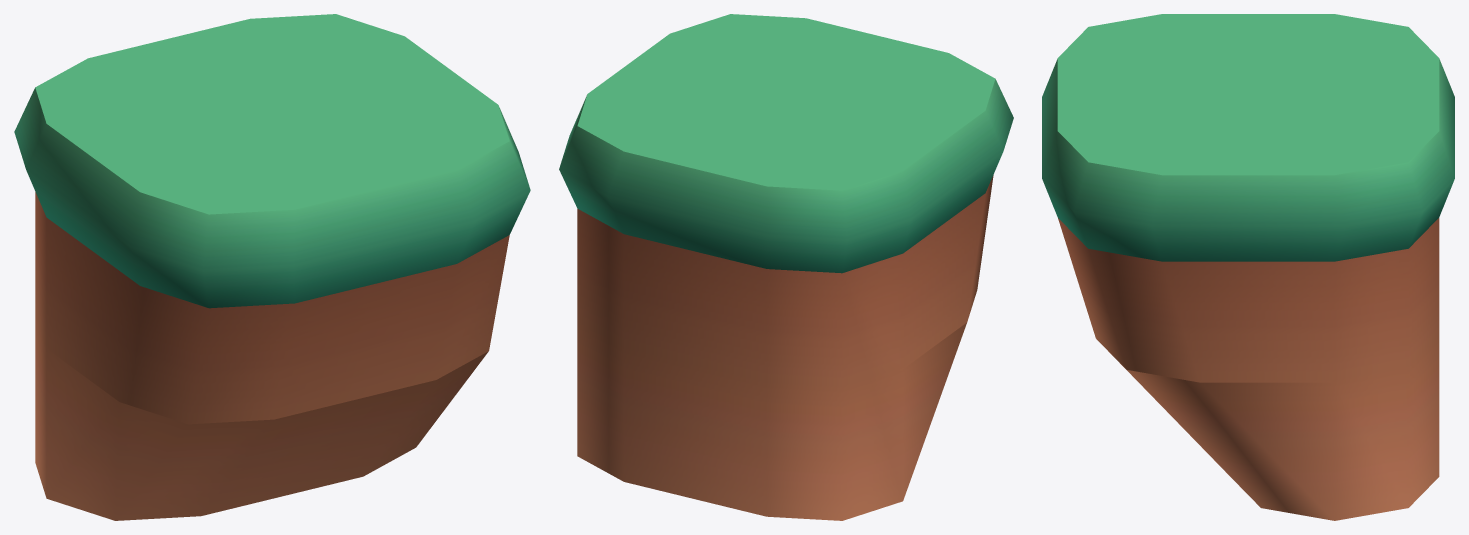
Rendered from kenney-platformer-block-grass-edge.glb.
3 renders of one model, left to right at view 1: azimuth 30°, elevation 25°; view 2: azimuth 150°, elevation 25°; view 3: azimuth 270°, elevation 25°, orthographic. The views are drawn at different scales.
Parts seen in each view (by area): view 1: block-grass-edge; view 2: block-grass-edge; view 3: block-grass-edge.
Boxes of the visible parts, x1=… form: block-grass-edge: x1=14, y1=14, x2=530, y2=520; block-grass-edge: x1=559, y1=14, x2=1013, y2=520; block-grass-edge: x1=1042, y1=14, x2=1454, y2=520.
Bounding box in the file's own units: 1.08 × 1 × 1.08.
1 material, 1 textured.
